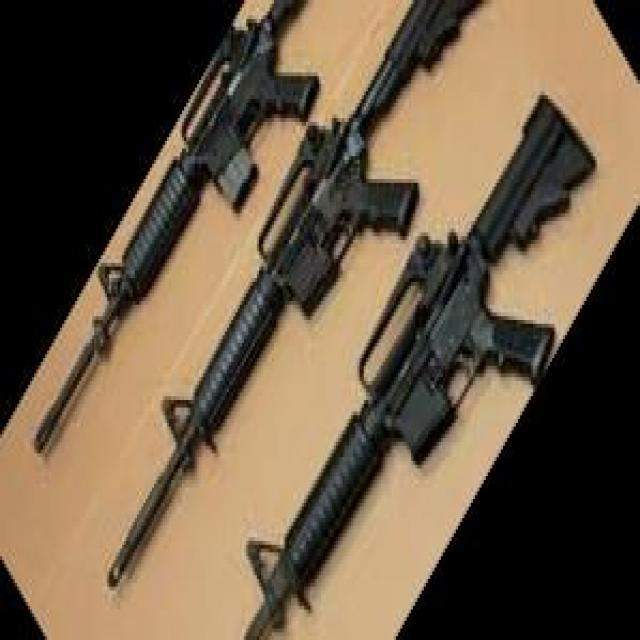weapon: (107, 1, 480, 592), (243, 92, 596, 640), (33, 0, 321, 454)
